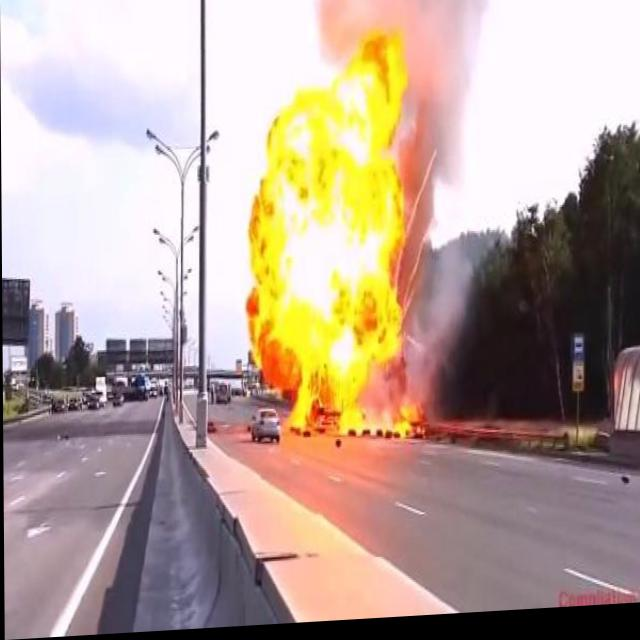fire: (240, 25, 421, 452)
